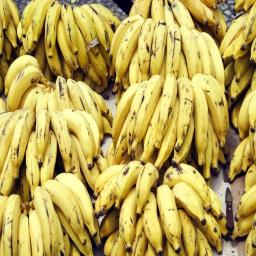banana: (95, 159, 230, 256), (112, 82, 228, 182), (4, 54, 110, 160), (17, 3, 130, 90), (3, 104, 106, 192), (0, 176, 107, 256)
